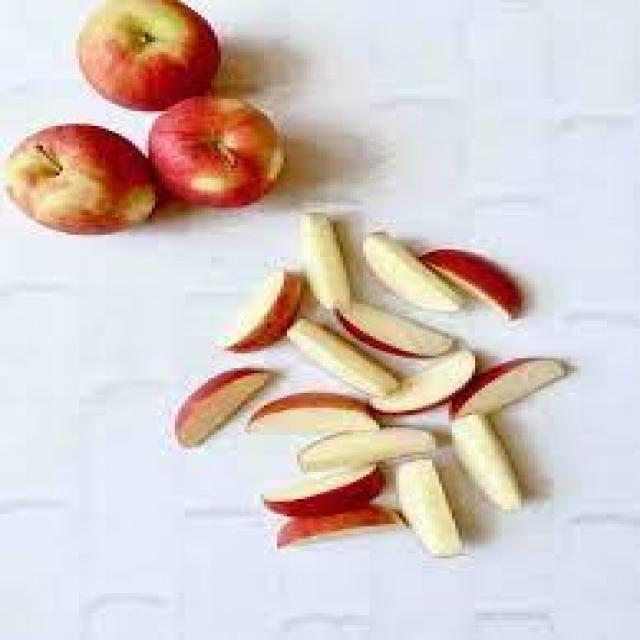Apple: (145, 96, 340, 225), (49, 2, 260, 114), (20, 124, 175, 252), (429, 400, 561, 529), (280, 319, 419, 405), (393, 460, 498, 561), (452, 348, 584, 428), (155, 361, 277, 447), (300, 210, 380, 331), (435, 234, 541, 324), (221, 262, 313, 356), (304, 418, 448, 474), (257, 469, 409, 516)
